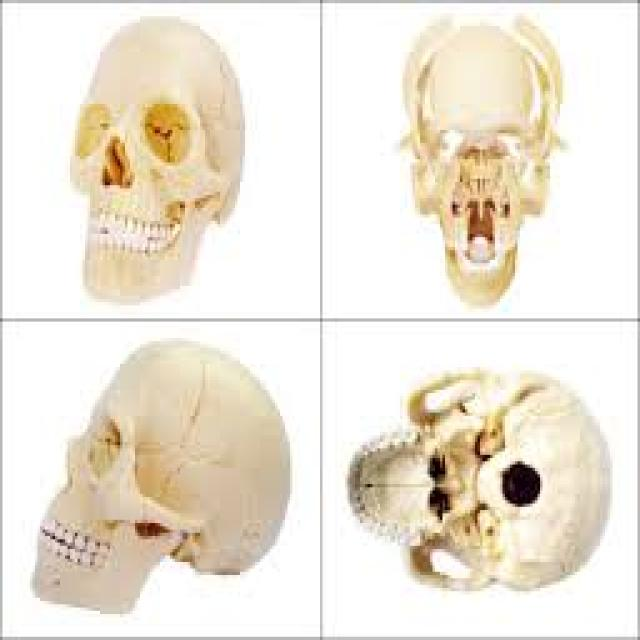skull: (70, 13, 257, 296)
